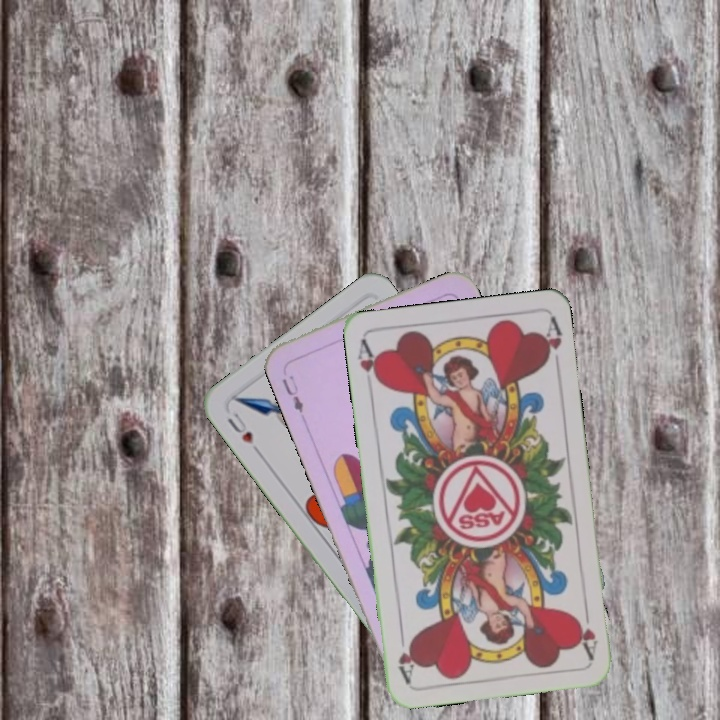EU: (278, 371, 306, 416)
HA: (571, 602, 601, 661), (353, 336, 384, 389)
HU: (223, 408, 263, 457)
